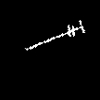treble_crochet: (26, 21, 84, 49)
